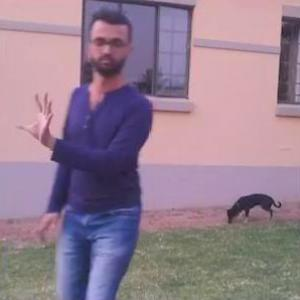follow_hand: (14, 86, 60, 143)
